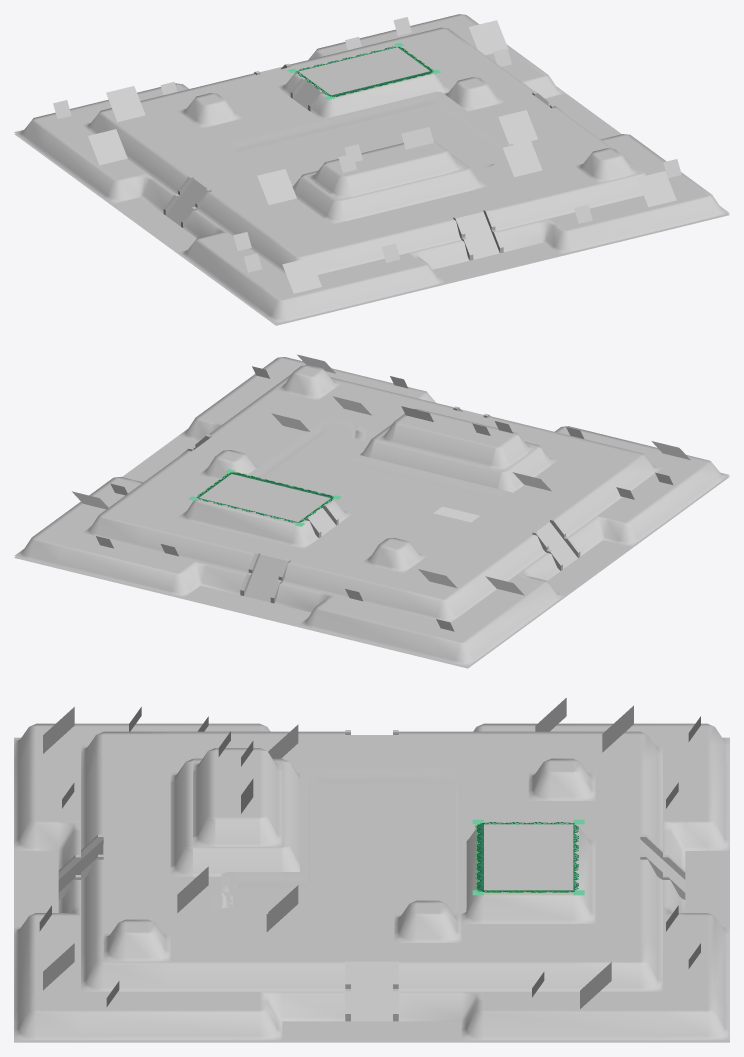
Rendered from Safari Zone_Areas - Rocky Beach.dae.
The picture shows the model from 3 angles, top to bottom: view 1: azimuth 30°, elevation 25°; view 2: azimuth 150°, elevation 25°; view 3: azimuth 270°, elevation 25°; orthographic projection. The views are drawn at different scales.
Visible parts, largest first — view 1: m_saf05_00_00c; view 2: m_saf05_00_00c; view 3: m_saf05_00_00c.
Boxes of the visible parts, box(x1,y1,x2,y2) form: m_saf05_00_00c: box(14, 14, 729, 325); m_saf05_00_00c: box(14, 354, 729, 668); m_saf05_00_00c: box(14, 698, 729, 1042).
Bounding box in the file's own units: 512 × 512 × 95.97.
